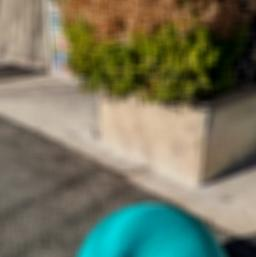algae: (67, 196, 238, 257)
